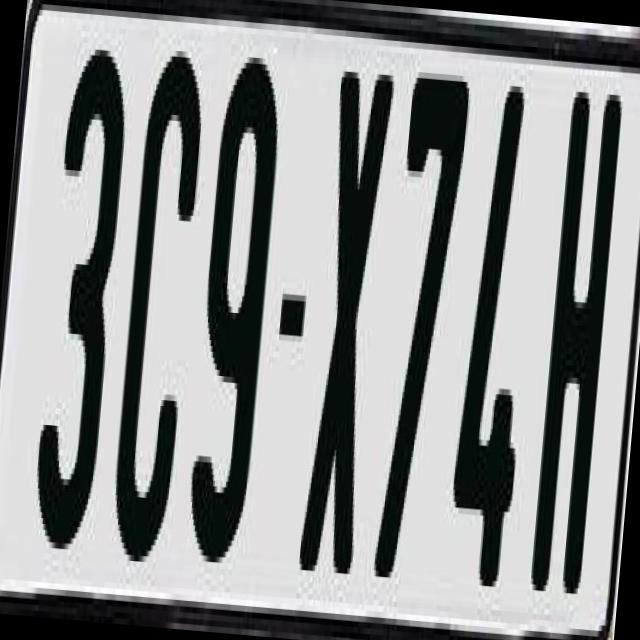3: (29, 29, 134, 556)
4: (441, 71, 544, 586)
7: (366, 77, 466, 586)
9: (180, 54, 282, 564)
C: (107, 31, 216, 558)
H: (526, 73, 627, 577)
X: (292, 70, 399, 592)
